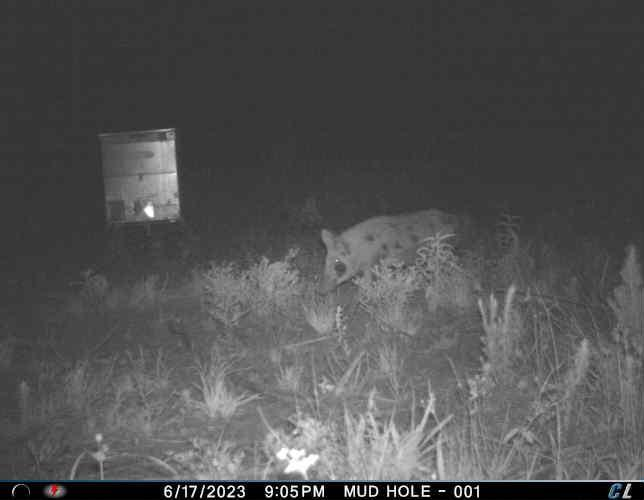Hog: (317, 204, 470, 290)
